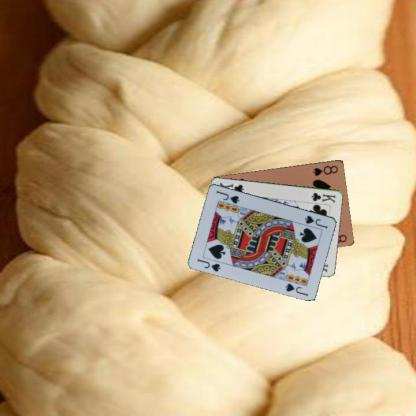8s: (310, 163, 339, 177)
Js: (302, 212, 329, 230), (195, 256, 222, 273)
Kc: (309, 190, 337, 204)
